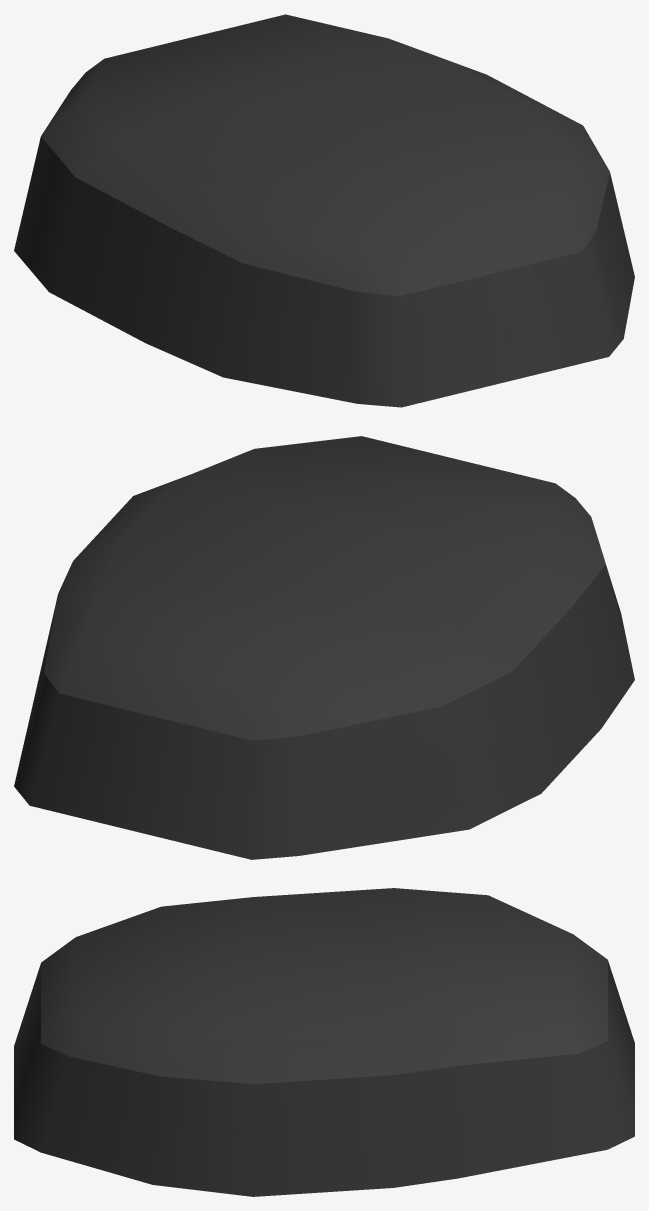
Rendered from Brick_2_2.glb.
The picture shows the model from 3 angles, top to bottom: view 1: azimuth 30°, elevation 25°; view 2: azimuth 150°, elevation 25°; view 3: azimuth 270°, elevation 25°; orthographic projection. The views are drawn at different scales.
Visible parts, largest first — view 1: Brick_2_2; view 2: Brick_2_2; view 3: Brick_2_2.
Part boxes in pixels (box(x1,y1,x2,y2)): Brick_2_2: box(14, 14, 634, 407); Brick_2_2: box(14, 436, 634, 859); Brick_2_2: box(14, 888, 634, 1196).
Size of the model in its own units: 0.2486 by 0.0674 by 0.3014.
1 material, 1 textured.
